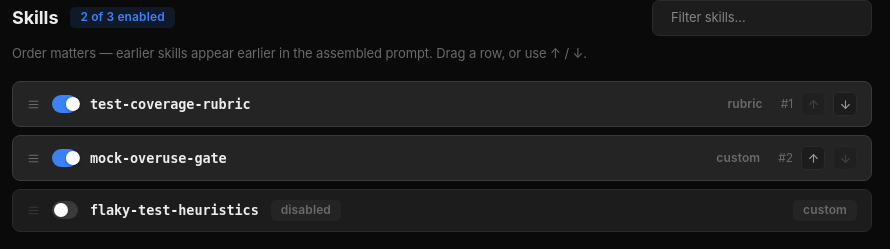
Test: SkillsTab › hides rows that do not match the filter
The image size is (890, 249).
Type "mock" into the field labelled "Filter skills…" at (772, 18), box [671, 8, 873, 28]
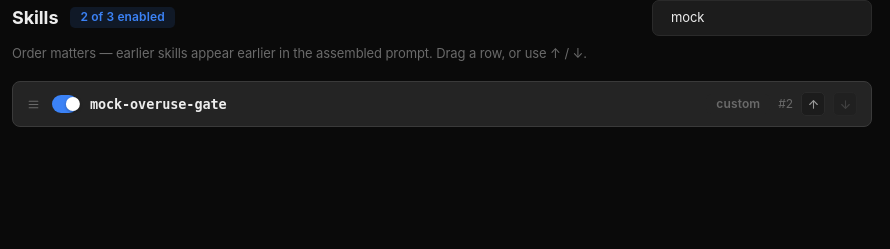
Expected: the text "mock-overuse-gate" is shown, [90, 94, 227, 114]
Result: the text "test-coverage-rubric" is gone
